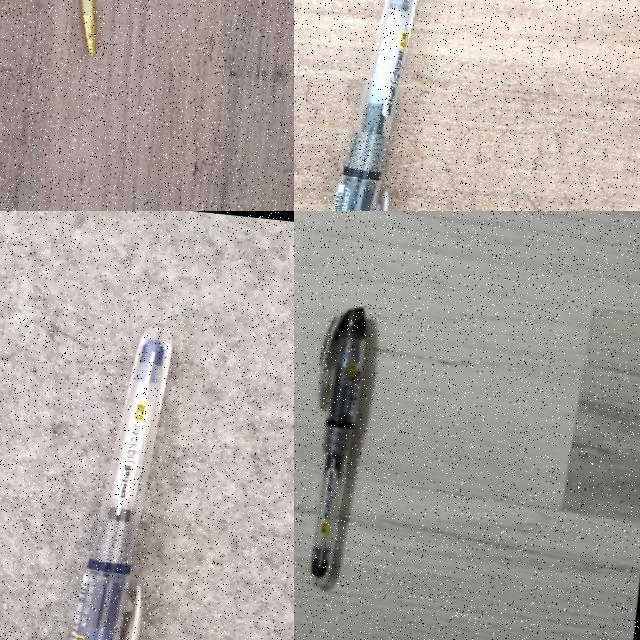pen: (70, 327, 172, 639), (333, 0, 417, 210), (310, 307, 366, 586)
